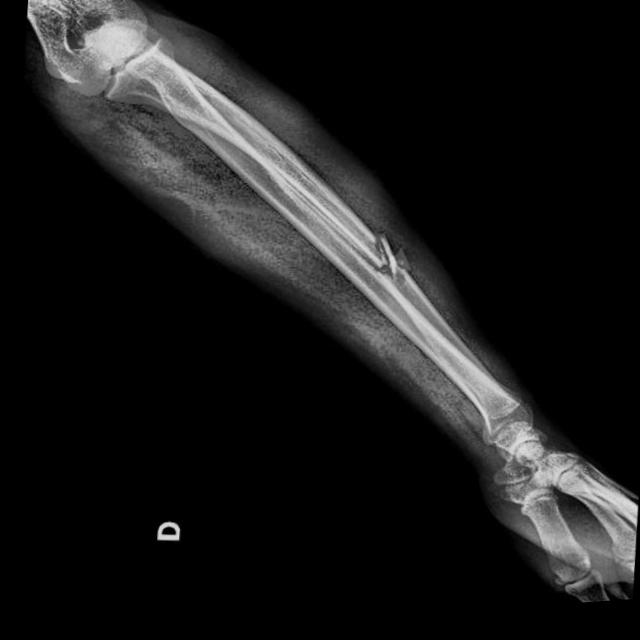fracture: (364, 236, 413, 286)
